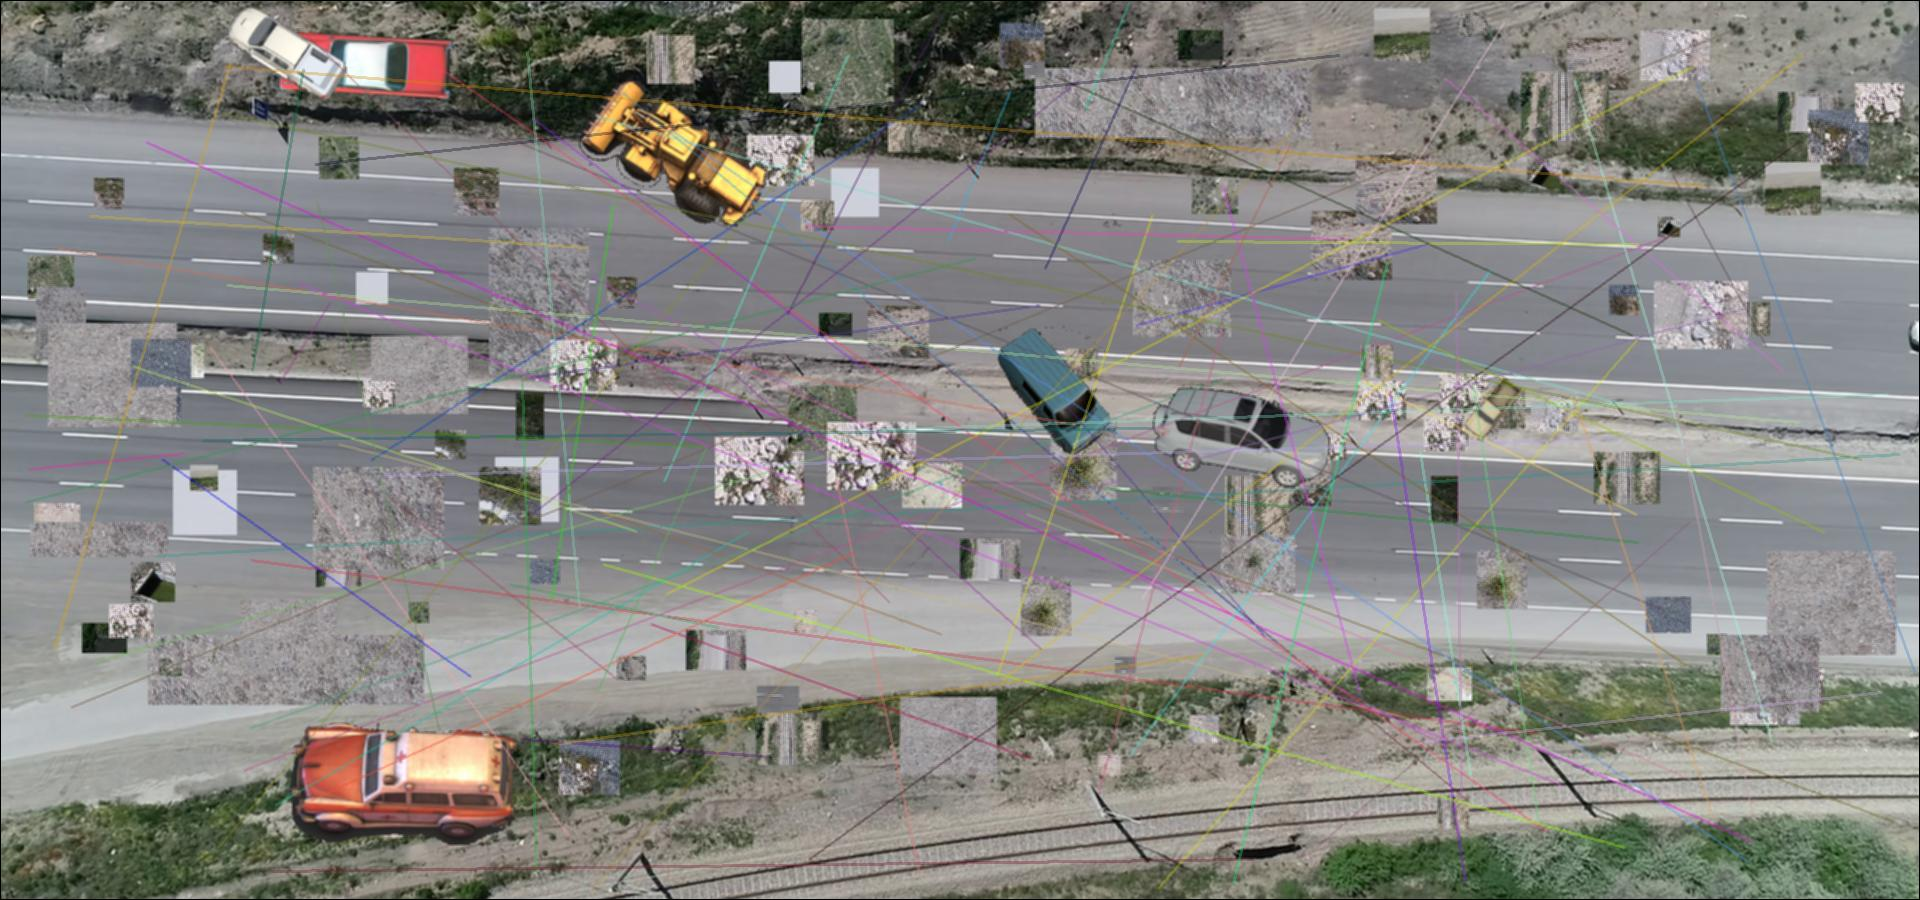arac: (576, 78, 780, 229), (291, 719, 518, 845), (1147, 386, 1332, 490), (992, 323, 1109, 456), (272, 26, 456, 100), (225, 1, 351, 99), (1460, 377, 1524, 441)
